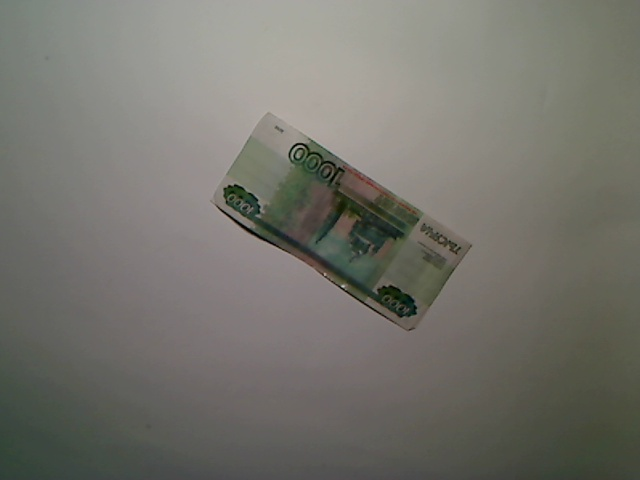banknotes: (207, 110, 480, 336)
